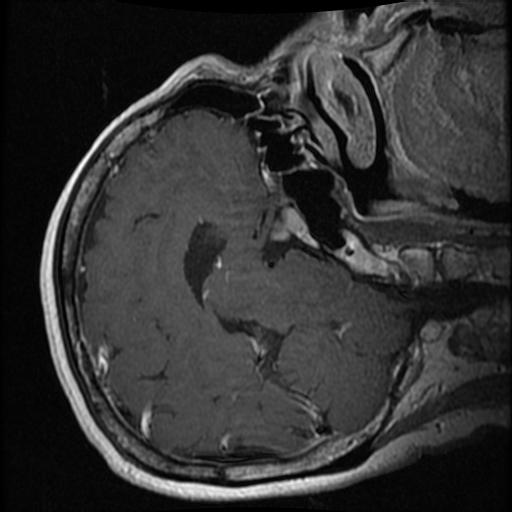pituitary tumour: (269, 210, 306, 241)
